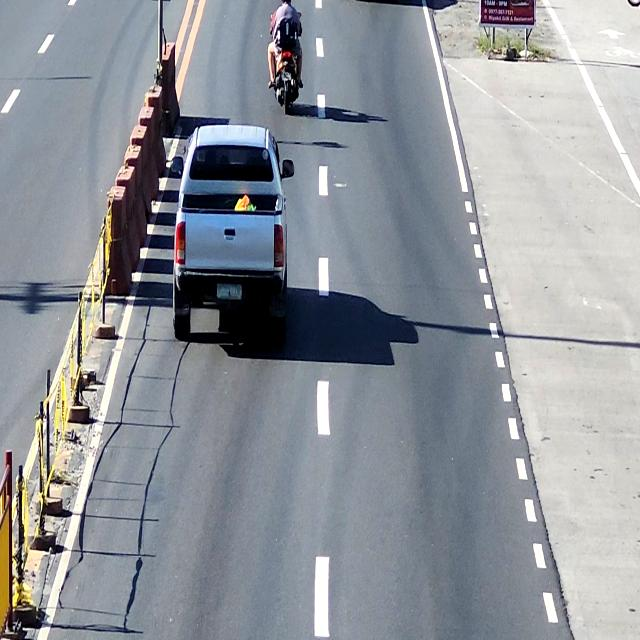Car: (175, 127, 286, 340)
License-Plate: (215, 281, 247, 307), (281, 70, 292, 82)
Motorcycle: (273, 21, 303, 115)
